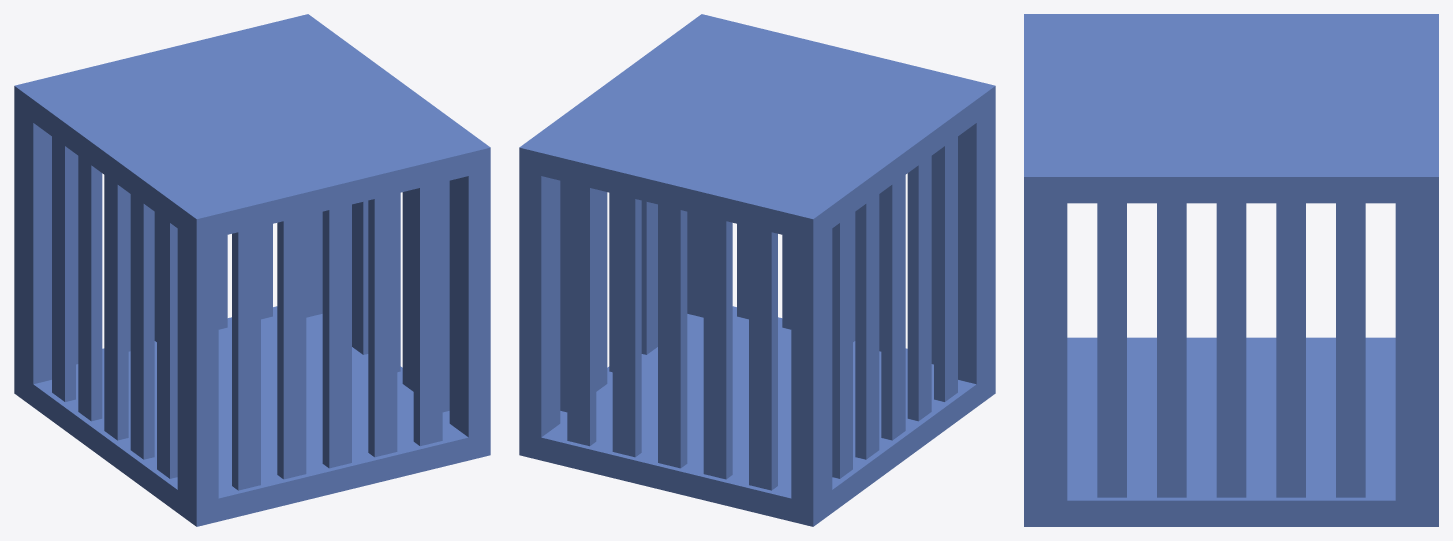
Rendered from prison.fbx.
The picture shows the model from 3 angles, left to right: view 1: azimuth 30°, elevation 25°; view 2: azimuth 150°, elevation 25°; view 3: azimuth 270°, elevation 25°; orthographic projection. The views are drawn at different scales.
Visible parts, largest first — view 1: wall.001, wall.003, tile.001, tile, wall.002, wall; view 2: wall, wall.003, tile.001, wall.002, tile, wall.001; view 3: wall.002, tile.001, tile, wall, wall.001, wall.003.
Boxes of the visible parts, x1,y1,x2,y2 form: wall.001: (184, 143, 490, 526); wall.003: (20, 85, 190, 494); tile.001: (49, 28, 483, 231); tile: (20, 318, 461, 521); wall.002: (299, 23, 462, 432); wall: (14, 14, 320, 399); wall: (519, 138, 825, 526); wall.003: (798, 91, 989, 521); tile.001: (554, 18, 989, 231); wall.002: (532, 61, 703, 432); tile: (554, 312, 989, 520); wall.001: (696, 14, 995, 402); wall.002: (1038, 165, 1424, 526); tile.001: (1038, 14, 1424, 203); tile: (1054, 337, 1424, 526); wall: (1410, 14, 1438, 526); wall.001: (1024, 14, 1052, 526); wall.003: (1128, 14, 1424, 349).
Bounding box in the file's own units: 200 × 200 × 215.
